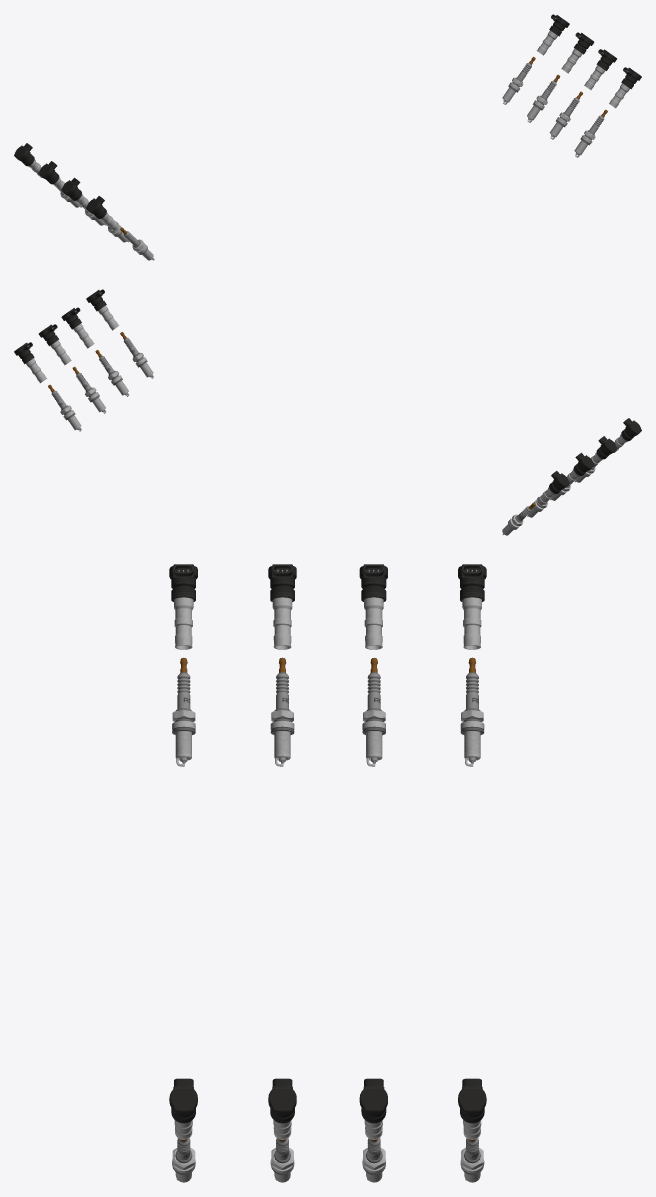
File: spark.glb
The picture shows the model from 3 angles, top to bottom: view 1: azimuth 30°, elevation 25°; view 2: azimuth 150°, elevation 25°; view 3: azimuth 270°, elevation 25°; orthographic projection. The views are drawn at different scales.
Visible parts, largest first — view 1: cewka_1(5), cewka_1(6), cewka_1(4), cewka_1(3), cewka_1(2), swieca_1(1), swieca_1(3), swieca_1(6), swieca_1(4), cewka_1(0), cewka_1(1), cewka_1(7) (+1 smaller); view 2: cewka_1(6), cewka_1(5), cewka_1(4), cewka_1(3), cewka_1(1), swieca_1(1), swieca_1(6), swieca_1(4), swieca_1(3), cewka_1(2), cewka_1(7), cewka_1(0) (+1 smaller); view 3: cewka_1(7), cewka_1(0), cewka_1(1), cewka_1(2), swieca_1(0), swieca_1(5), swieca_1(7), swieca_1(2), cewka_1(5), cewka_1(6), cewka_1(3), cewka_1(4).
Boxes of the visible parts, left/top/right/bottom form: cewka_1(5): left=584, top=49, right=616, bottom=89; cewka_1(6): left=561, top=32, right=594, bottom=73; cewka_1(4): left=609, top=67, right=641, bottom=108; cewka_1(3): left=536, top=14, right=569, bottom=55; cewka_1(2): left=86, top=196, right=119, bottom=230; swieca_1(1): left=527, top=74, right=560, bottom=122; swieca_1(3): left=574, top=109, right=607, bottom=157; swieca_1(6): left=502, top=56, right=535, bottom=104; swieca_1(4): left=549, top=91, right=582, bottom=139; cewka_1(0): left=61, top=177, right=89, bottom=212; cewka_1(1): left=14, top=143, right=42, bottom=177; cewka_1(7): left=38, top=161, right=67, bottom=195; cewka_1(6): left=38, top=324, right=71, bottom=365; cewka_1(5): left=61, top=307, right=94, bottom=348; cewka_1(4): left=86, top=289, right=119, bottom=330; cewka_1(3): left=14, top=342, right=46, bottom=383; cewka_1(1): left=536, top=471, right=569, bottom=505; swieca_1(1): left=72, top=366, right=106, bottom=413; swieca_1(6): left=48, top=384, right=81, bottom=431; swieca_1(4): left=95, top=350, right=129, bottom=396; swieca_1(3): left=120, top=332, right=153, bottom=378; cewka_1(2): left=613, top=418, right=641, bottom=452; cewka_1(7): left=566, top=452, right=594, bottom=487; cewka_1(0): left=588, top=436, right=617, bottom=470; cewka_1(7): left=359, top=564, right=387, bottom=649; cewka_1(0): left=268, top=564, right=296, bottom=649; cewka_1(1): left=458, top=564, right=486, bottom=649; cewka_1(2): left=169, top=564, right=197, bottom=649; swieca_1(0): left=172, top=657, right=195, bottom=766; swieca_1(5): left=362, top=657, right=385, bottom=766; swieca_1(7): left=460, top=657, right=484, bottom=766; swieca_1(2): left=270, top=657, right=294, bottom=766; cewka_1(5): left=268, top=1078, right=296, bottom=1139; cewka_1(6): left=359, top=1078, right=387, bottom=1139; cewka_1(3): left=458, top=1078, right=486, bottom=1139; cewka_1(4): left=169, top=1078, right=197, bottom=1139.
Size of the model in its own units: 0.0287 by 0.00378 by 0.00715.
2 materials, 2 textured.
